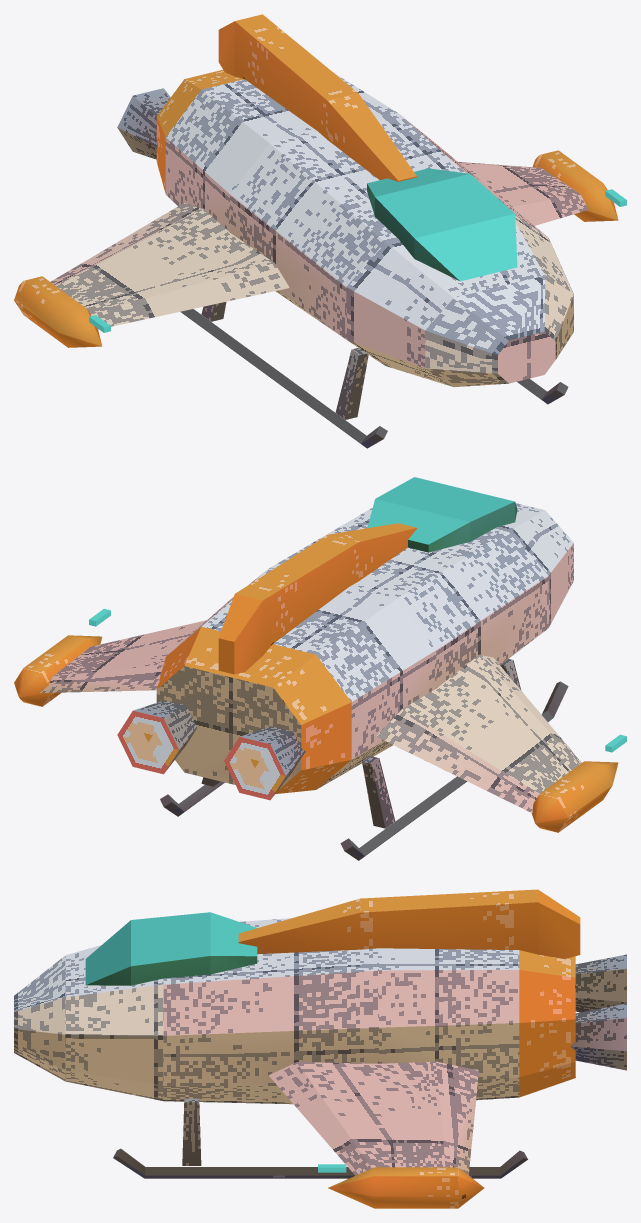
File: ship.shuttle.glb
The picture shows the model from 3 angles, top to bottom: view 1: azimuth 30°, elevation 25°; view 2: azimuth 150°, elevation 25°; view 3: azimuth 270°, elevation 25°; orthographic projection. The views are drawn at different scales.
Visible parts, largest first — view 1: kit_body, kit_wings, kit_spine, kit_canopy, kit_tip_pods, kit_skids, kit_thrusters, kit_struts; view 2: kit_body, kit_wings, kit_spine, kit_thrusters, kit_canopy, kit_tip_pods, kit_skids, kit_struts; view 3: kit_body, kit_wings, kit_spine, kit_canopy, kit_thrusters, kit_tip_pods, kit_skids, kit_struts.
Boxes of the visible parts, left/top/right/bottom form: kit_body: left=156, top=69, right=573, bottom=387; kit_wings: left=50, top=162, right=588, bottom=329; kit_spine: left=218, top=14, right=416, bottom=181; kit_canopy: left=367, top=168, right=517, bottom=281; kit_tip_pods: left=14, top=150, right=618, bottom=347; kit_skids: left=180, top=309, right=568, bottom=448; kit_thrusters: left=117, top=88, right=170, bottom=159; kit_struts: left=201, top=302, right=368, bottom=419; kit_body: left=156, top=503, right=573, bottom=793; kit_wings: left=40, top=620, right=581, bottom=812; kit_spine: left=218, top=523, right=416, bottom=674; kit_thrusters: left=117, top=700, right=305, bottom=800; kit_canopy: left=367, top=477, right=517, bottom=552; kit_tip_pods: left=14, top=635, right=618, bottom=832; kit_skids: left=160, top=681, right=568, bottom=860; kit_struts: left=201, top=659, right=520, bottom=828; kit_body: left=14, top=918, right=575, bottom=1104; kit_wings: left=269, top=1061, right=478, bottom=1175; kit_spine: left=238, top=889, right=580, bottom=958; kit_canopy: left=85, top=912, right=257, bottom=985; kit_thrusters: left=570, top=954, right=626, bottom=1070; kit_tip_pods: left=328, top=1167, right=484, bottom=1208; kit_skids: left=113, top=1148, right=527, bottom=1178; kit_struts: left=182, top=1098, right=201, bottom=1165.
Bounding box in the file's own units: 6.44 × 2.84 × 6.55.
7 materials, 6 textured.
